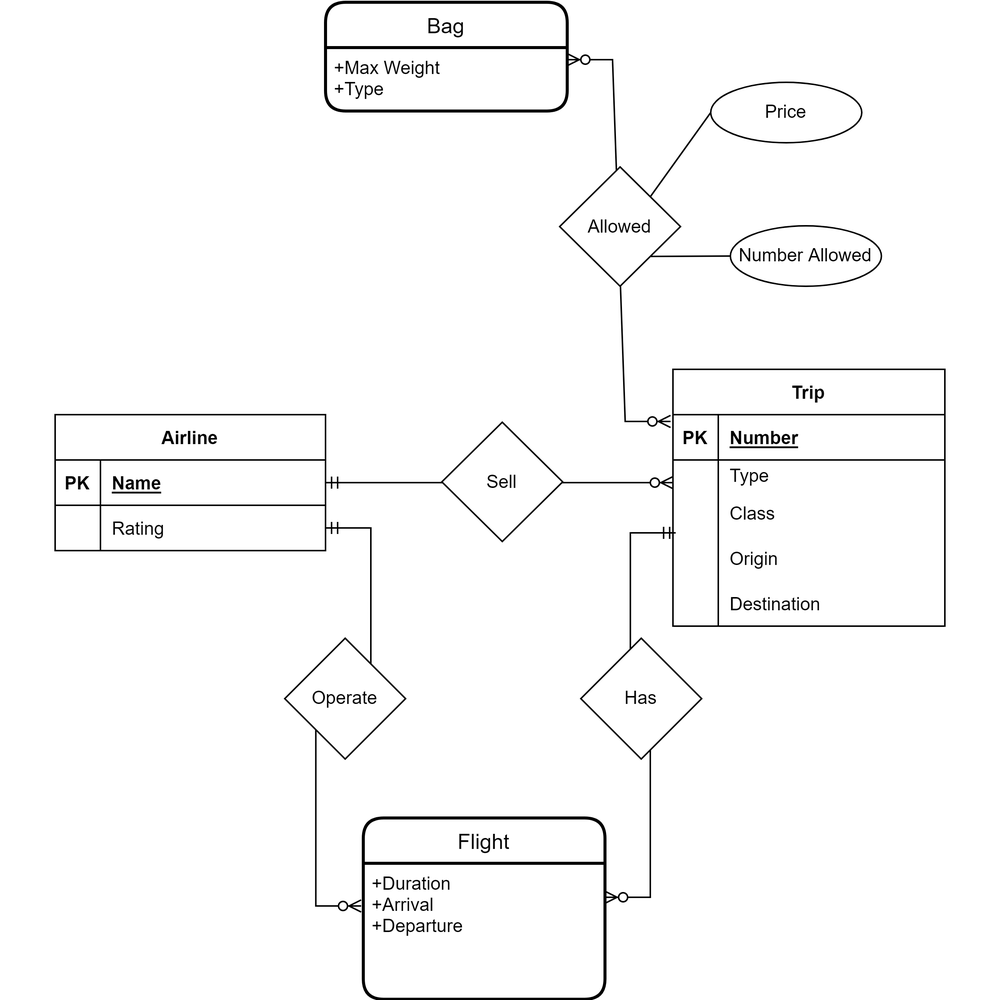attribute: (726, 222, 888, 287), (708, 80, 863, 142)
entity: (664, 360, 956, 631), (356, 811, 614, 1000), (48, 407, 335, 556), (318, 1, 579, 120)
relationship: (284, 630, 414, 764), (437, 417, 567, 543), (581, 628, 697, 762), (553, 166, 682, 286)
